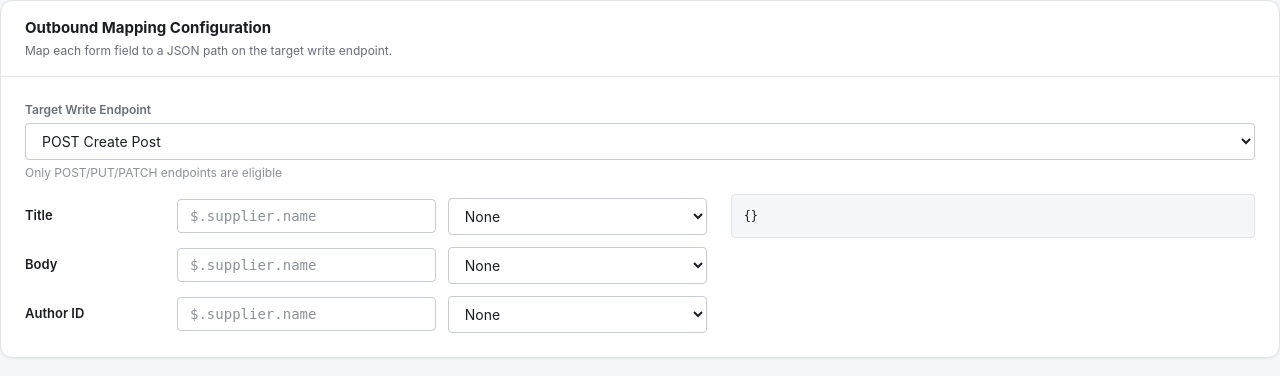
Test case: OutboundMappingPage › matches the spec test scenario: Title/Body/Author ID mapped to $.title/$.body/$.userId
Type "$.title" into the field named "Target path for Title" at (306, 216), box [177,199,436,233]
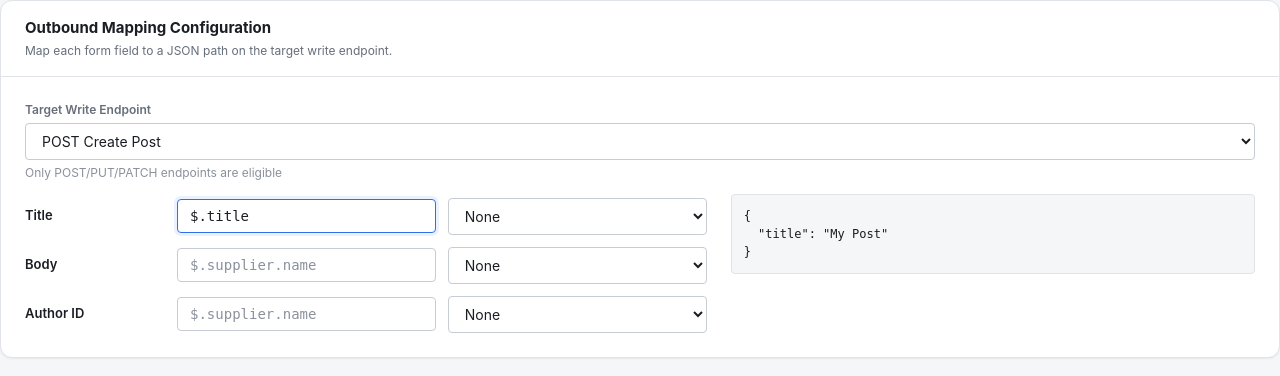
Type "$.body" into the field named "Target path for Body" at (306, 265), box [177,248,436,282]
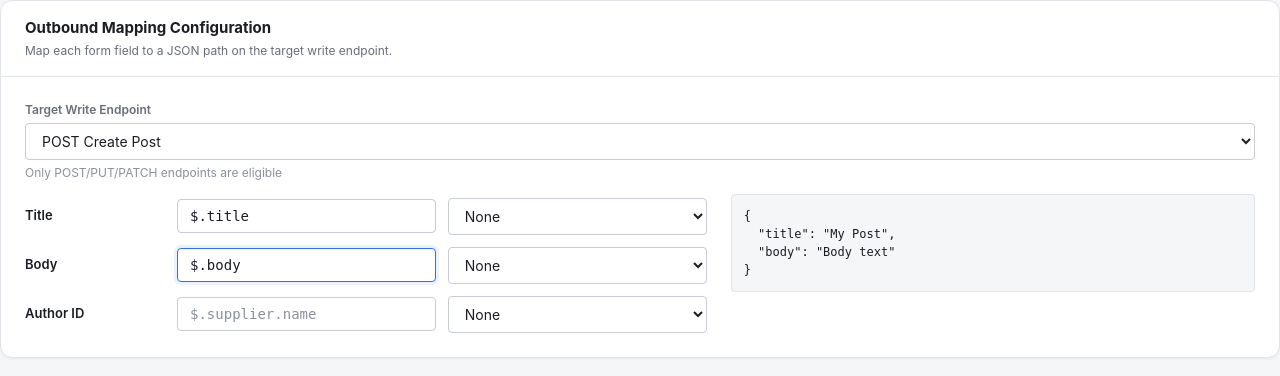
Type "$.userId" into the field named "Target path for Author ID" at (306, 314), box [177,297,436,331]
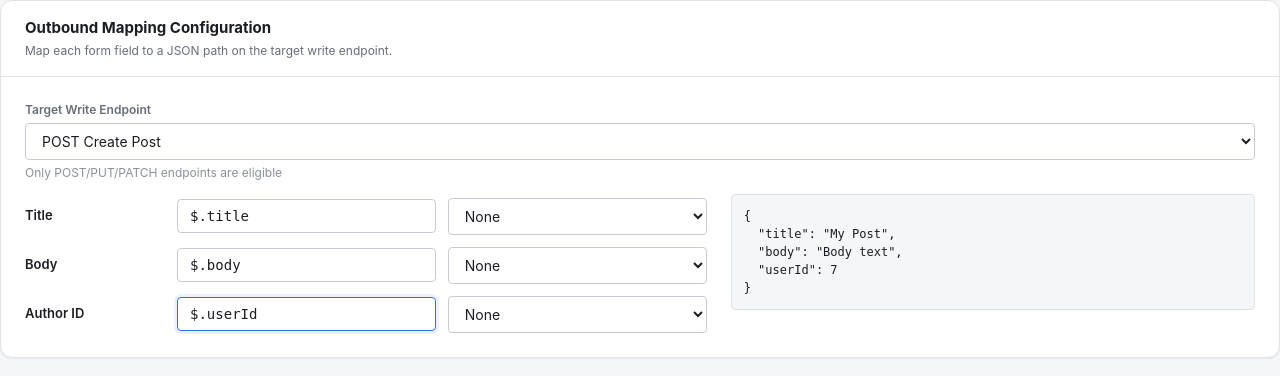
Expected: the text "{ \"title\": \"My Post\", \"body\": \"Body text\", \"userId\": 7 }" shows "\"title\": \"My Post\"", [744,208,903,294]
Expected: the text "{ \"title\": \"My Post\", \"body\": \"Body text\", \"userId\": 7 }" shows "\"body\": \"Body text\"", [744,208,903,294]
Expected: the text "{ \"title\": \"My Post\", \"body\": \"Body text\", \"userId\": 7 }" shows "\"userId\": 7", [744,208,903,294]
